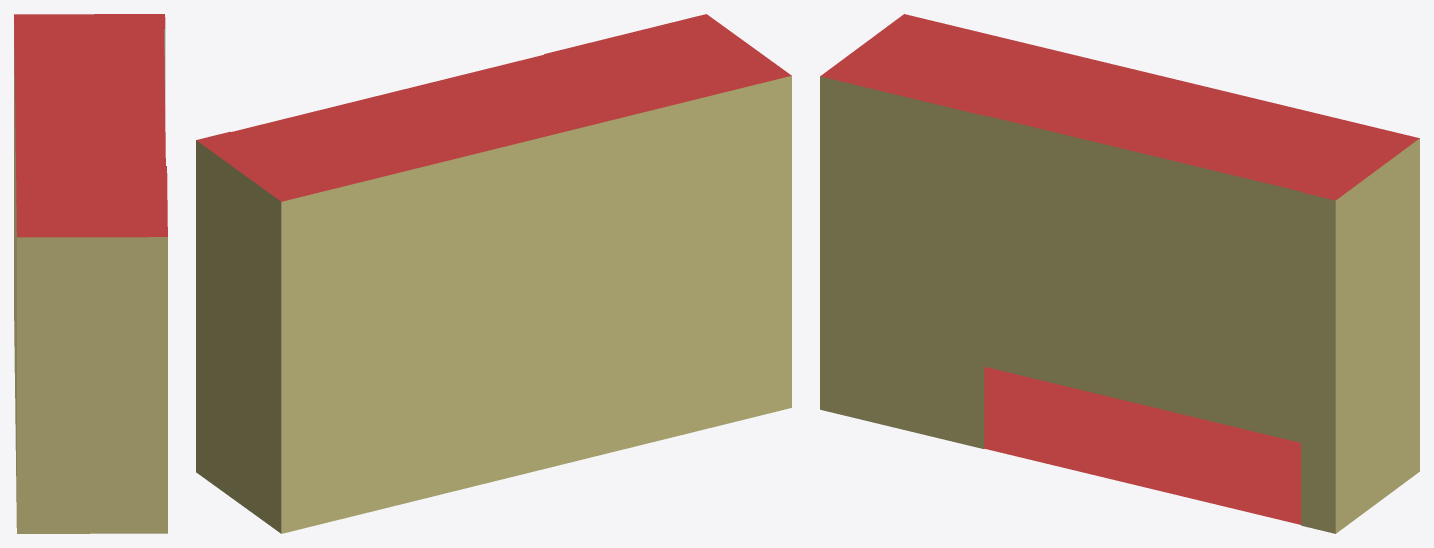
The picture shows the model from 3 angles, left to right: view 1: azimuth 30°, elevation 25°; view 2: azimuth 150°, elevation 25°; view 3: azimuth 270°, elevation 25°; orthographic projection. The views are drawn at different scales.
Visible parts, largest first — view 1: group_4, group_3; view 2: group_4, group_3; view 3: group_4, group_3, group_5.
Boxes of the visible parts, x1,y1,x2,y2 form: group_4: [14, 24, 167, 533]; group_3: [14, 14, 167, 237]; group_4: [196, 54, 791, 533]; group_3: [196, 14, 791, 201]; group_4: [820, 76, 1419, 533]; group_3: [820, 14, 1419, 200]; group_5: [984, 366, 1300, 524].
Size of the model in its own units: 8.3 by 11.27 by 6.91.
